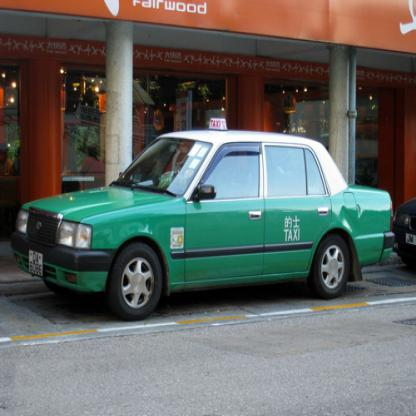taxi: (13, 115, 397, 323)
